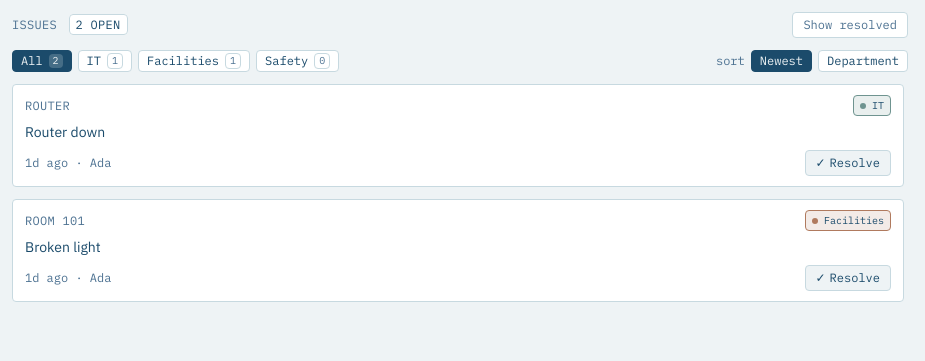
it: IssuesPanel › groups cards under Department headings in Department sort
The width and height of the screenshot is (925, 361).
What coordinates should you click on to do the following:
click the button "Department"
I would click on:
 (863, 61)
Its box is [818, 50, 908, 72].
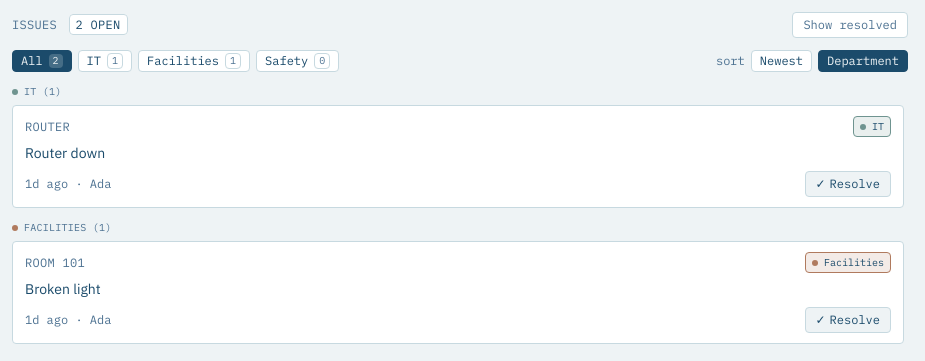
expect the heading "IT (1)" is shown: met, box [12, 85, 62, 98]
expect the heading "Facilities (1)" is shown: met, box [12, 221, 112, 234]
